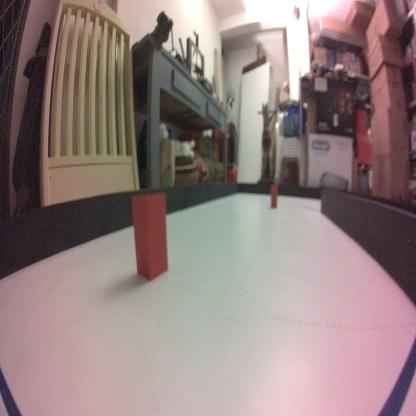red: (130, 190, 168, 281), (270, 183, 277, 207)
